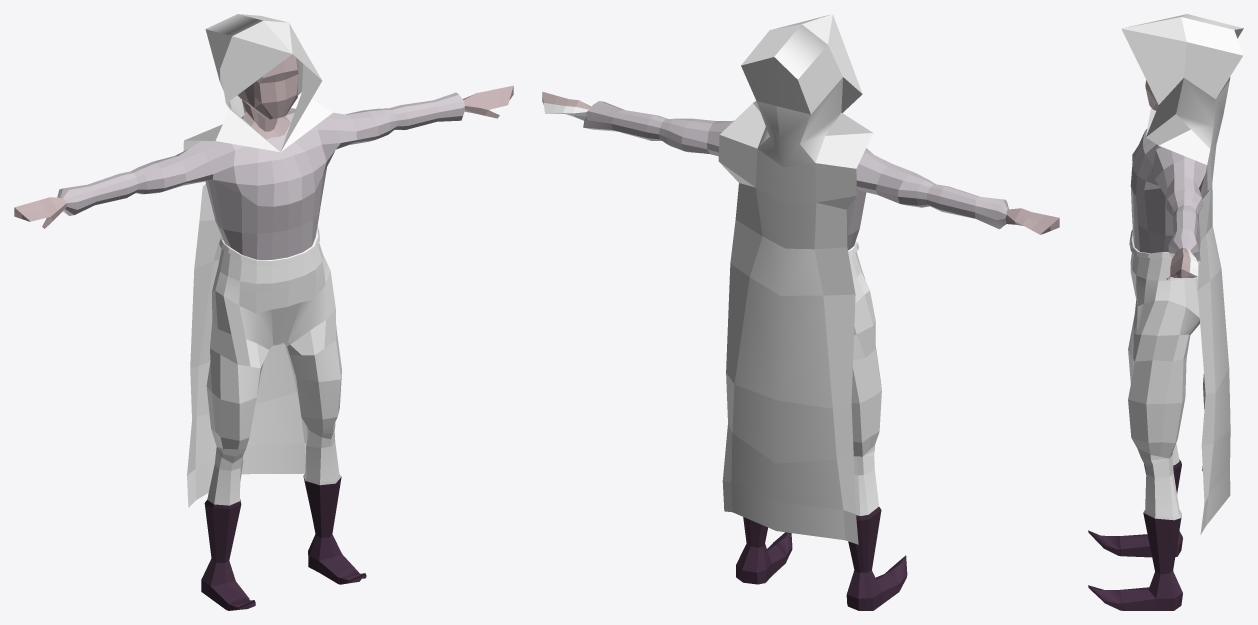
File: wizard.fbx
3 renders of one model, left to right at view 1: azimuth 30°, elevation 25°; view 2: azimuth 150°, elevation 25°; view 3: azimuth 270°, elevation 25°, orthographic. The views are drawn at different scales.
Visible parts, largest first — view 1: wizard, cape; view 2: cape, wizard; view 3: wizard, cape.
Boxes of the visible parts, left/top/right/bottom form: wizard: left=14, top=54, right=513, bottom=610; cape: left=183, top=14, right=332, bottom=507; cape: left=718, top=14, right=872, bottom=544; wizard: left=542, top=91, right=1059, bottom=610; wizard: left=1088, top=80, right=1207, bottom=610; cape: left=1121, top=14, right=1243, bottom=534.
Size of the model in its own units: 181 by 191 by 48.14.
